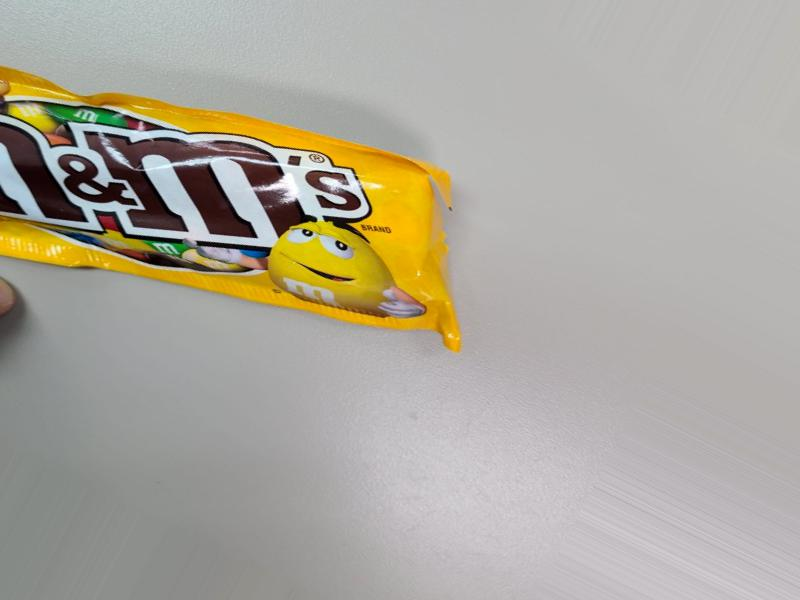m&m: (0, 76, 425, 352)
